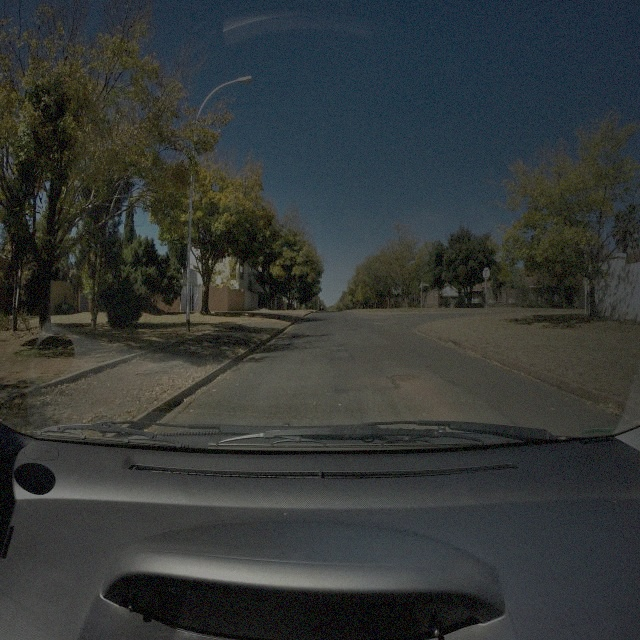pothole: (389, 370, 419, 383)
